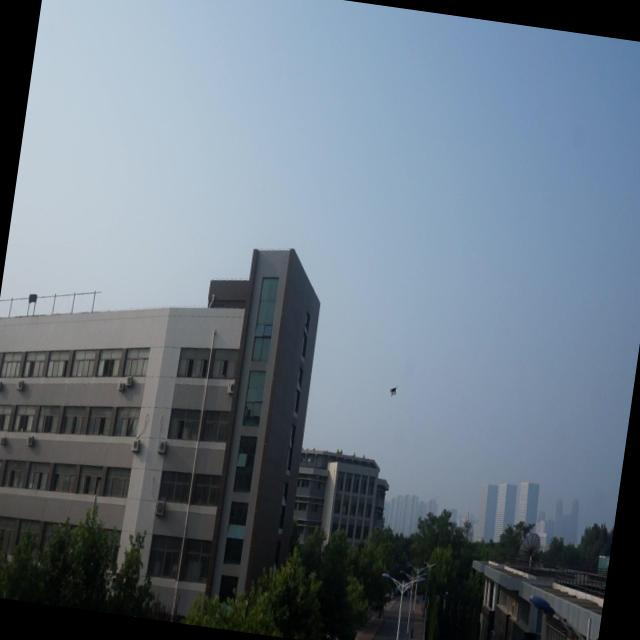drone: (388, 379, 402, 398)
